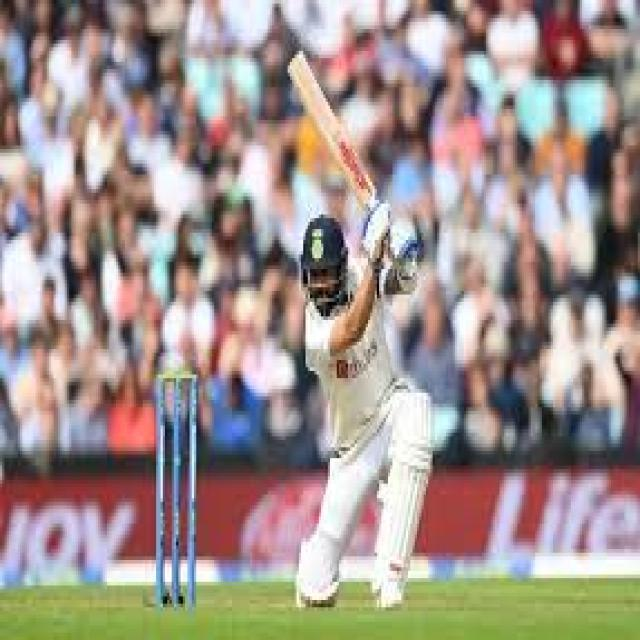bat: (288, 51, 376, 206)
toe: (280, 52, 314, 71)
